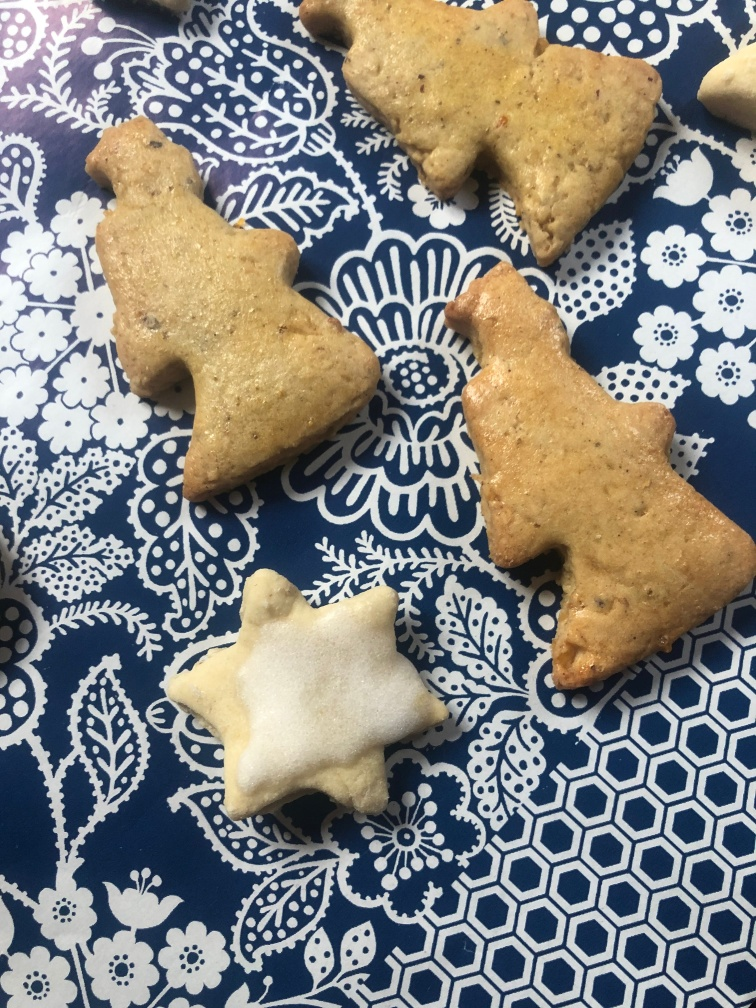king mage: (439, 260, 755, 692), (83, 115, 385, 501), (300, 1, 660, 262)
star: (162, 567, 447, 821)
